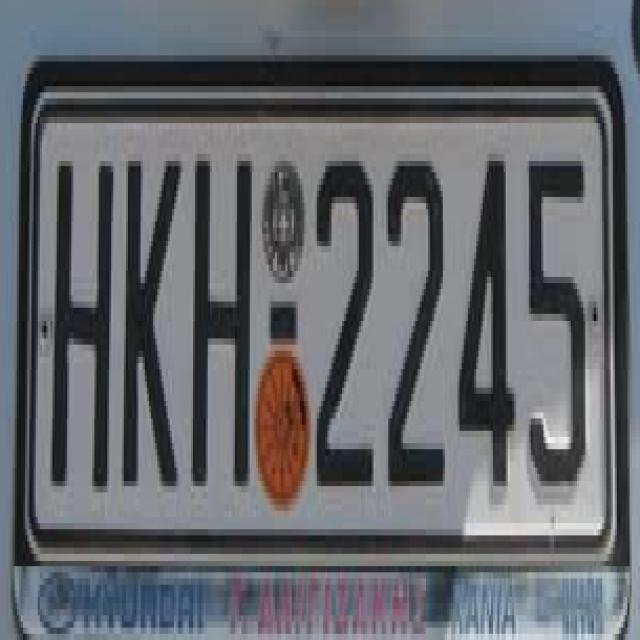Autre: (17, 67, 638, 640)
